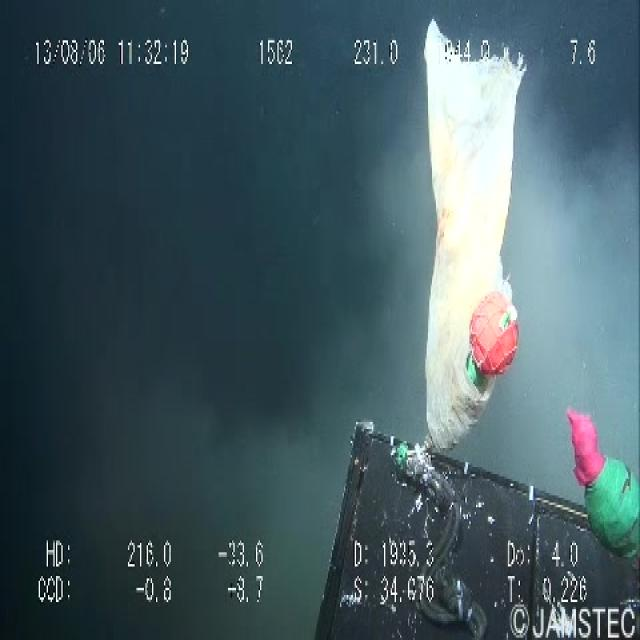plastic: (412, 14, 536, 448)
